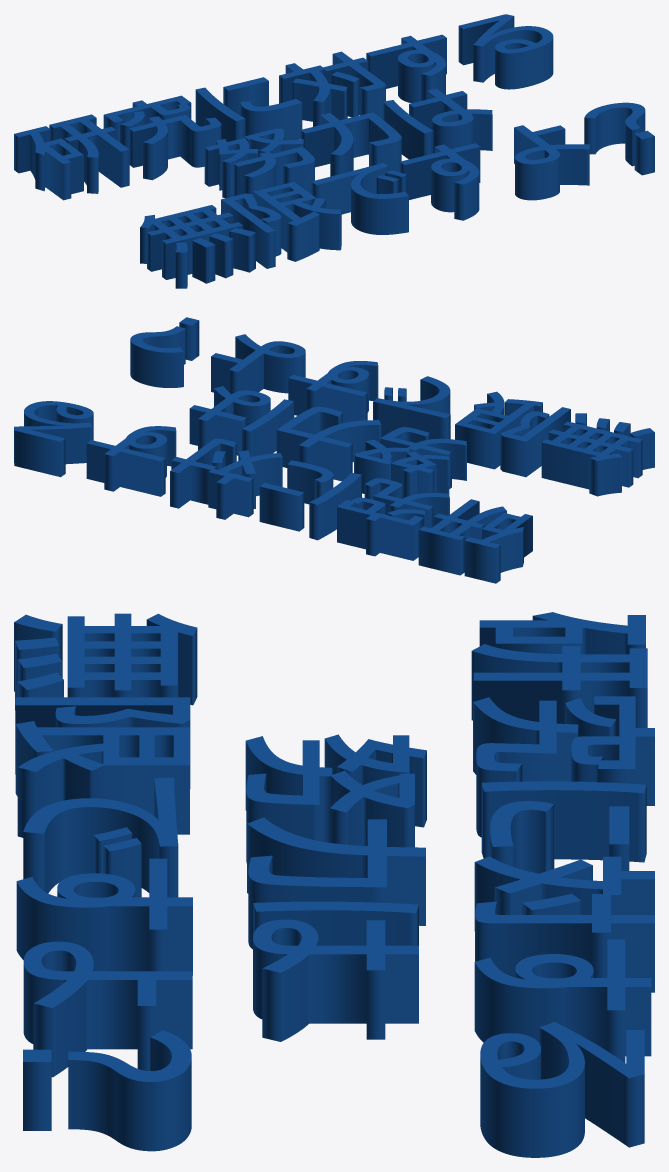
The model's file is KDM_metal.gltf.
3 renders of one model, top to bottom at view 1: azimuth 30°, elevation 25°; view 2: azimuth 150°, elevation 25°; view 3: azimuth 270°, elevation 25°, orthographic. The views are drawn at different scales.
Visible parts, largest first — view 1: テキスト; view 2: テキスト; view 3: テキスト.
Part boxes in pixels (box(x1,y1,x2,y2)): テキスト: box(14, 14, 654, 288); テキスト: box(14, 317, 654, 583); テキスト: box(14, 612, 654, 1157).
Bounding box in the file's own units: 5.91 × 0.4 × 3.36.
